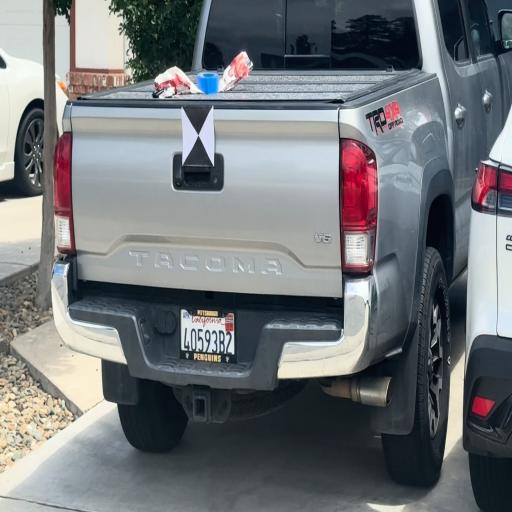target: (182, 105, 214, 167)
